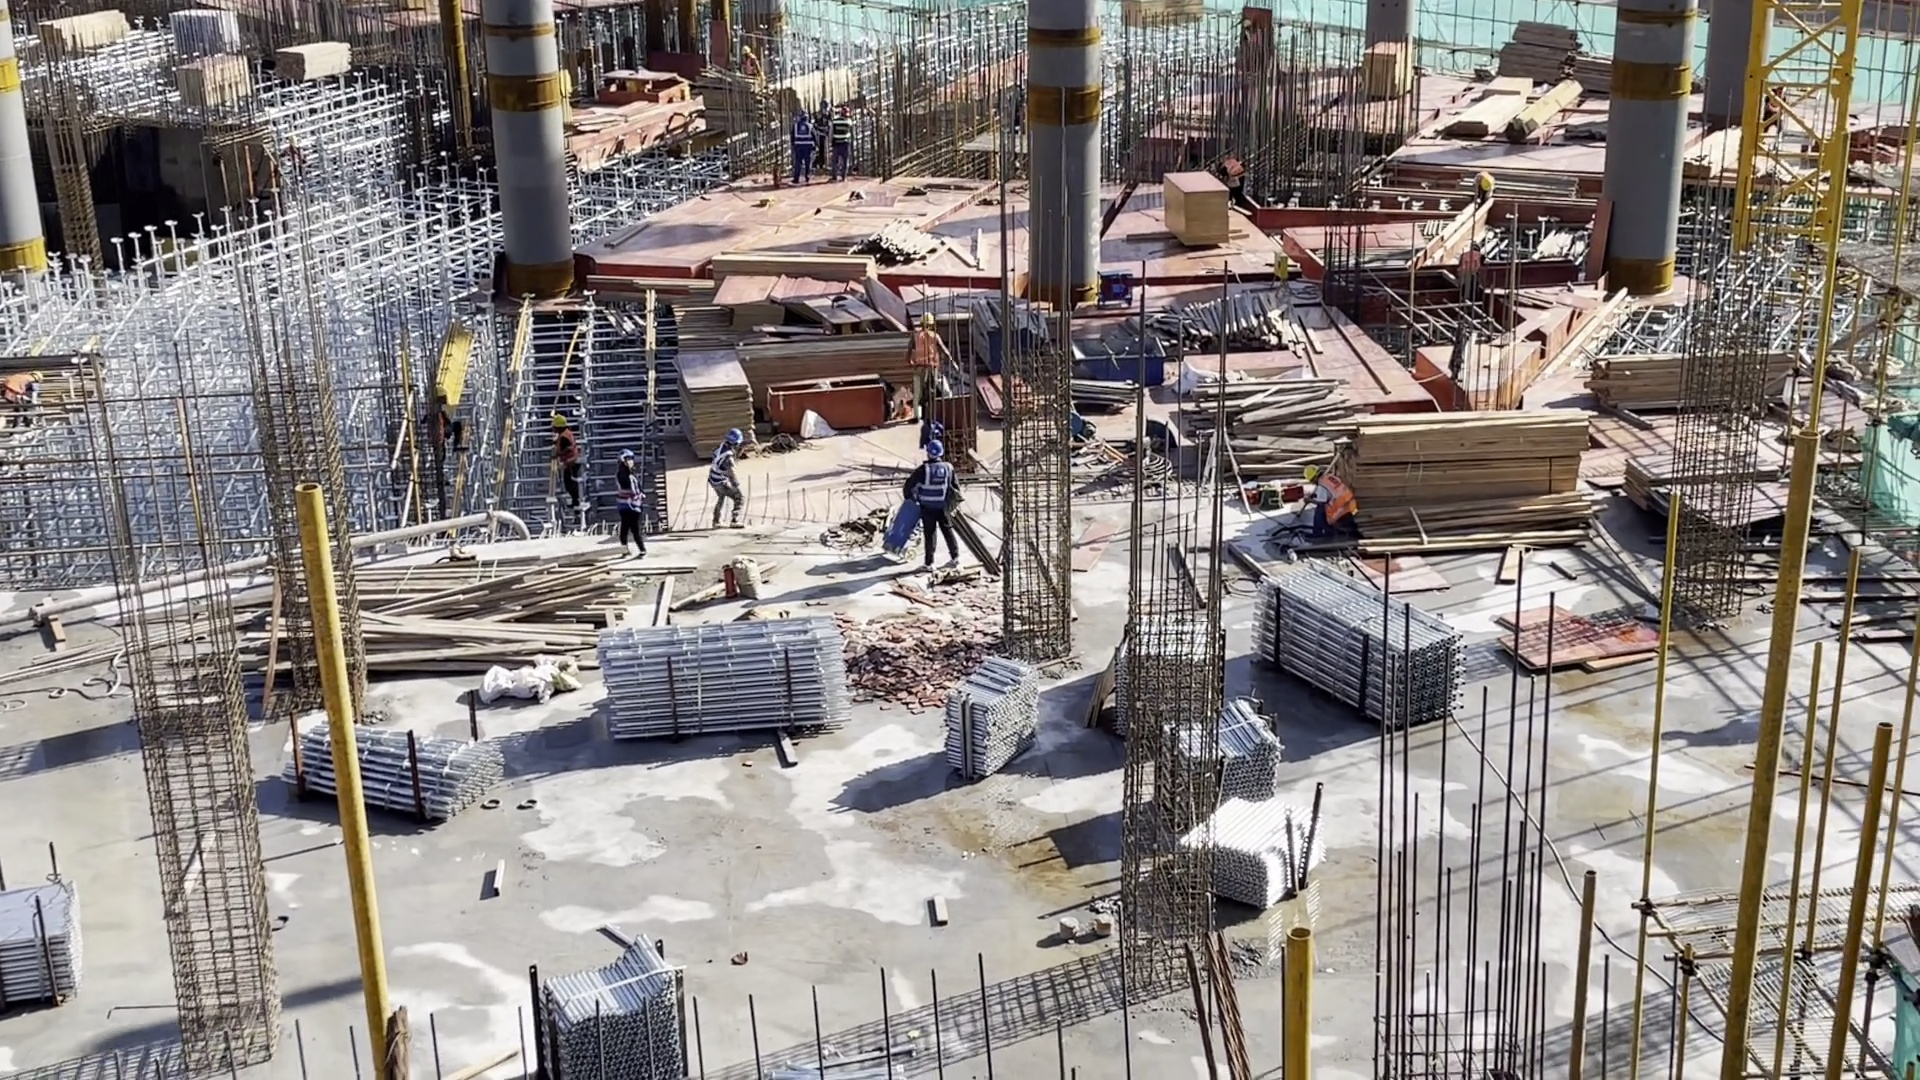helmet: (1302, 459, 1325, 487), (719, 422, 741, 450), (916, 436, 940, 462), (1475, 176, 1498, 199), (545, 414, 569, 436), (431, 387, 453, 409), (613, 448, 633, 470), (916, 310, 937, 329), (835, 105, 850, 123), (818, 97, 832, 114), (795, 108, 810, 122)
person: (907, 440, 963, 568), (1298, 461, 1360, 542), (907, 313, 951, 426), (539, 416, 591, 507), (709, 432, 748, 532), (616, 452, 650, 556), (789, 110, 813, 183), (1457, 242, 1487, 298), (811, 94, 831, 172), (833, 104, 851, 181), (1473, 168, 1496, 208)
vest: (1317, 474, 1353, 518), (614, 476, 652, 513), (917, 466, 949, 505), (549, 436, 579, 467), (710, 455, 730, 491), (1461, 255, 1479, 280), (792, 123, 808, 151), (833, 126, 847, 152), (816, 118, 828, 138)
